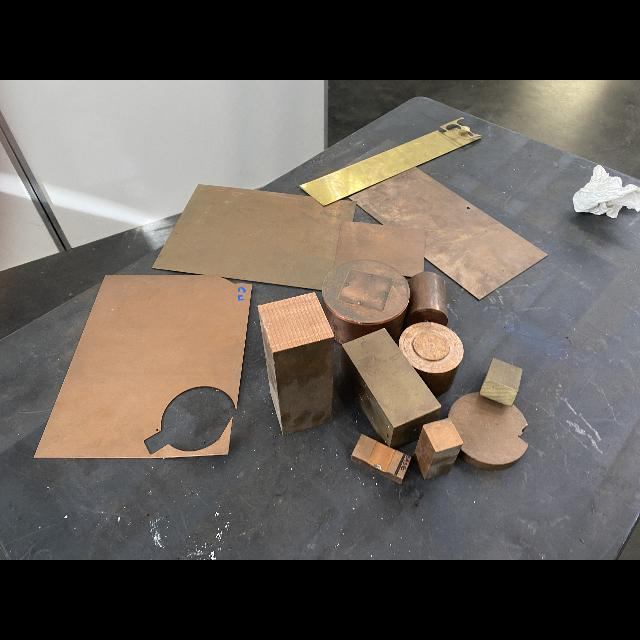Brass: (350, 168, 547, 300), (153, 185, 355, 290), (300, 118, 481, 205), (342, 329, 441, 448), (258, 293, 334, 434), (322, 260, 410, 344), (480, 358, 522, 406)
Copper: (34, 275, 251, 458), (448, 392, 528, 470), (334, 221, 425, 277), (399, 322, 464, 394), (414, 419, 463, 479), (351, 436, 411, 483), (406, 272, 448, 326)
